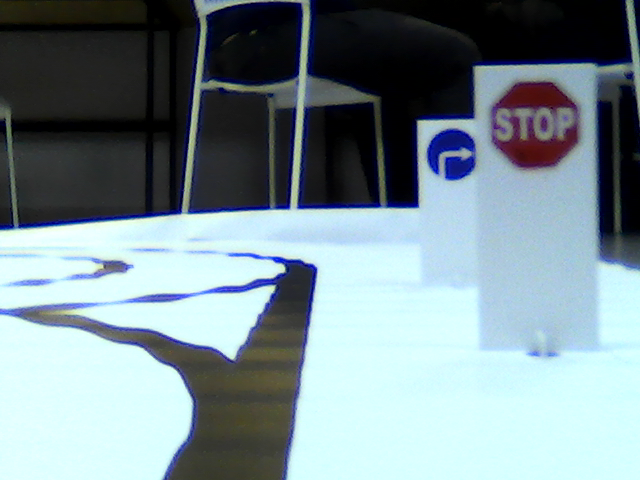Right: (425, 127, 473, 180)
Stop: (486, 78, 581, 174)
